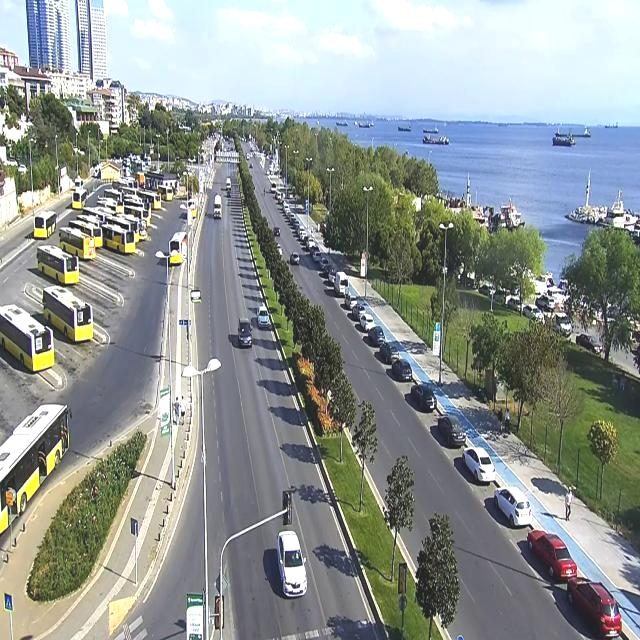Car: (268, 504, 313, 613), (232, 311, 259, 373)
Truck: (212, 185, 228, 233)
